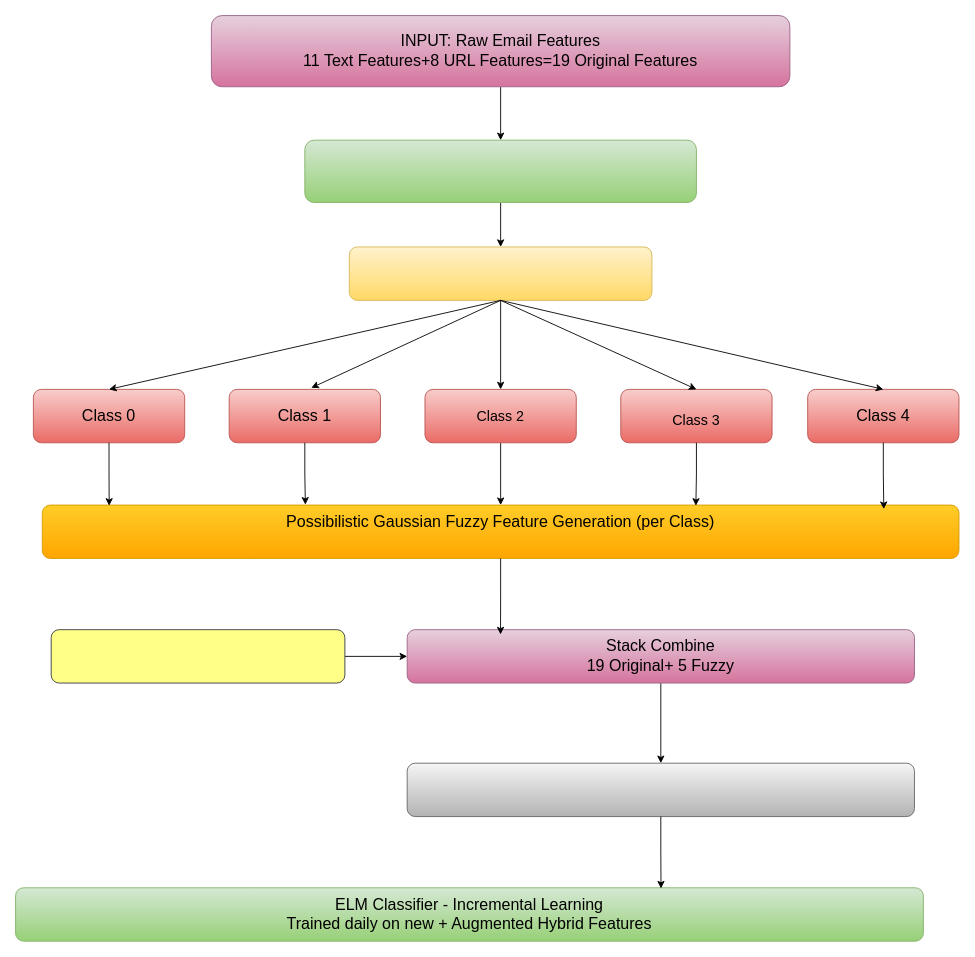
Image size: 975x957. Some labels were removed from this diagram. The centre of each missing label's shape, as x and y in pixels:
"19 Original Features" goes at [197,656].
"Class Separation by Label" goes at [500,273].
"Hybrid Feature Vector" goes at [660,789].
"Normalization" goes at [500,170].
